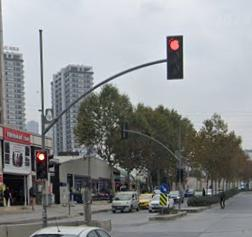redlight: (166, 36, 184, 81), (36, 149, 48, 181)
